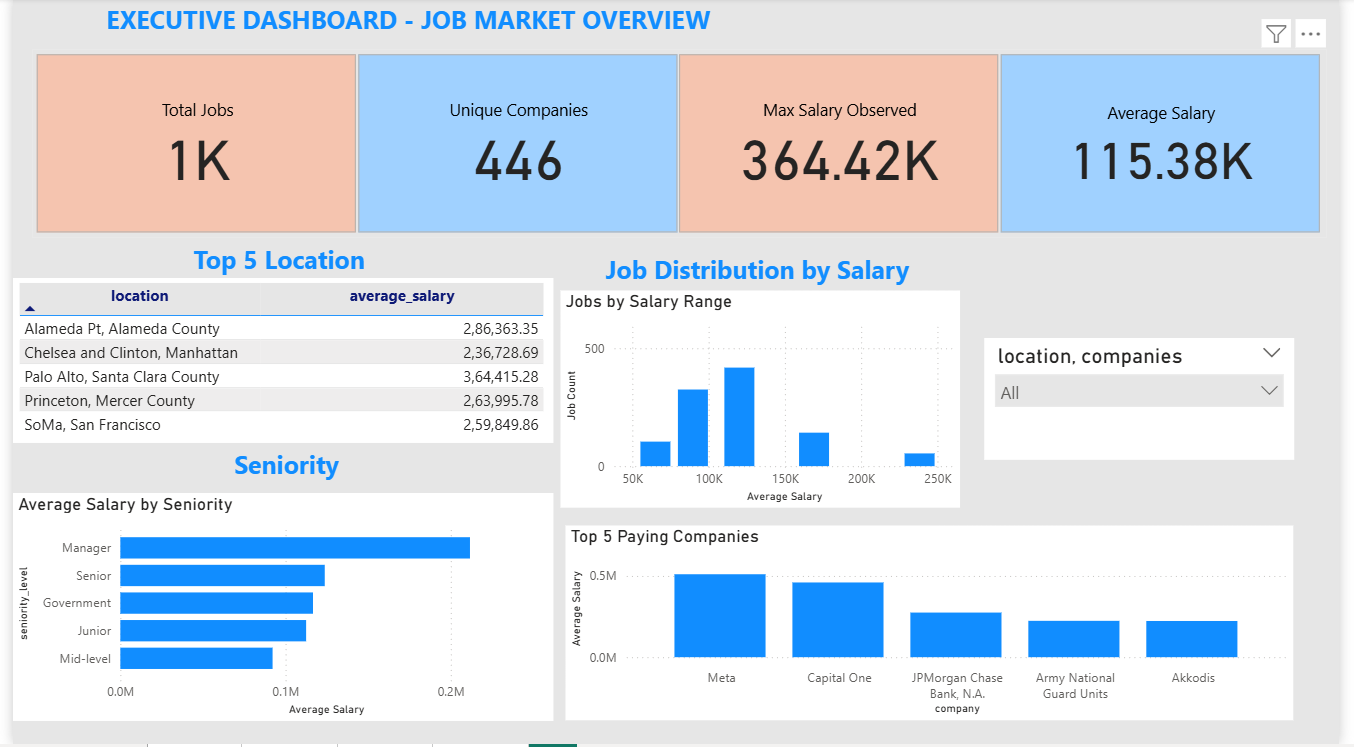

The dashboard page shown, as its layout file describes it:
{"tool":"powerbi","page":{"name":"Page 1","canvas":[1280,720],"ordinal":0},"visuals":[{"type":"textbox","box":[26.7,0,710,68.3],"z":0},{"type":"cardVisual","fields":{"Data":["Sum(job_analysis_db view_job_summary.total_jobs)","Sum(job_analysis_db view_job_summary.unique_companies)","Sum(job_analysis_db view_job_summary.max_salary)","Sum(job_analysis_db view_job_summary.average_salary)"]},"box":[17.9,50,1250,182.1],"z":1000},{"type":"tableEx","fields":{"Values":["job_analysis_db view_location_analysis (2).location","job_analysis_db view_location_analysis (2).average_salary"]},"box":[0,270.2,521.4,159.5],"z":2000},{"type":"slicer","fields":{"Values":["job_analysis_db view_location_analysis.location","job_analysis_db view_location_analysis.companies"]},"box":[936.9,328.6,298.8,117.9],"z":3000},{"type":"textbox","box":[0,429.8,521.4,96.4],"z":4000},{"type":"clusteredBarChart","title":"Average Salary by Seniority","fields":{"Category":["job_analysis_db view_seniority_analysis.seniority_level"],"Y":["Sum(job_analysis_db view_seniority_analysis.average_salary)"]},"box":[0,477.4,521.4,220.2],"z":5000},{"type":"textbox","box":[92.9,232.1,334.5,50],"z":6000},{"type":"textbox","box":[533.3,241.7,370.2,57.1],"z":7000},{"type":"clusteredColumnChart","title":"Jobs by Salary Range","fields":{"Category":["job_analysis_db view_salary_ranges.avg_in_range"],"Y":["Sum(job_analysis_db view_salary_ranges.job_count)"]},"box":[528.6,282.1,385.7,209.5],"z":8000},{"type":"columnChart","title":"Top 5 Paying Companies","fields":{"Category":["job_analysis_db view_top_companies_by_location.company"],"Y":["Sum(job_analysis_db view_top_companies_by_location.average_salary)"]},"box":[533.3,509.5,702.4,188.1],"z":9000}]}

Visuals, with their boxes in screenshot pixels (x1, y1, x2, y2), scaled from the page's 1280x720 canvas onto the 1354x747 screenshot:
textbox: [x1=28, y1=0, x2=779, y2=71]
cardVisual - Sum(job_analysis_db view_job_summary.total_jobs) x Sum(job_analysis_db view_job_summary.unique_companies): [x1=19, y1=52, x2=1341, y2=241]
tableEx - job_analysis_db view_location_analysis (2).location x job_analysis_db view_location_analysis (2).average_salary: [x1=0, y1=280, x2=552, y2=446]
slicer - job_analysis_db view_location_analysis.location x job_analysis_db view_location_analysis.companies: [x1=991, y1=341, x2=1307, y2=463]
textbox: [x1=0, y1=446, x2=552, y2=546]
"Average Salary by Seniority" clusteredBarChart: [x1=0, y1=495, x2=552, y2=724]
textbox: [x1=98, y1=241, x2=452, y2=293]
textbox: [x1=564, y1=251, x2=956, y2=310]
"Jobs by Salary Range" clusteredColumnChart: [x1=559, y1=293, x2=967, y2=510]
"Top 5 Paying Companies" columnChart: [x1=564, y1=529, x2=1307, y2=724]
